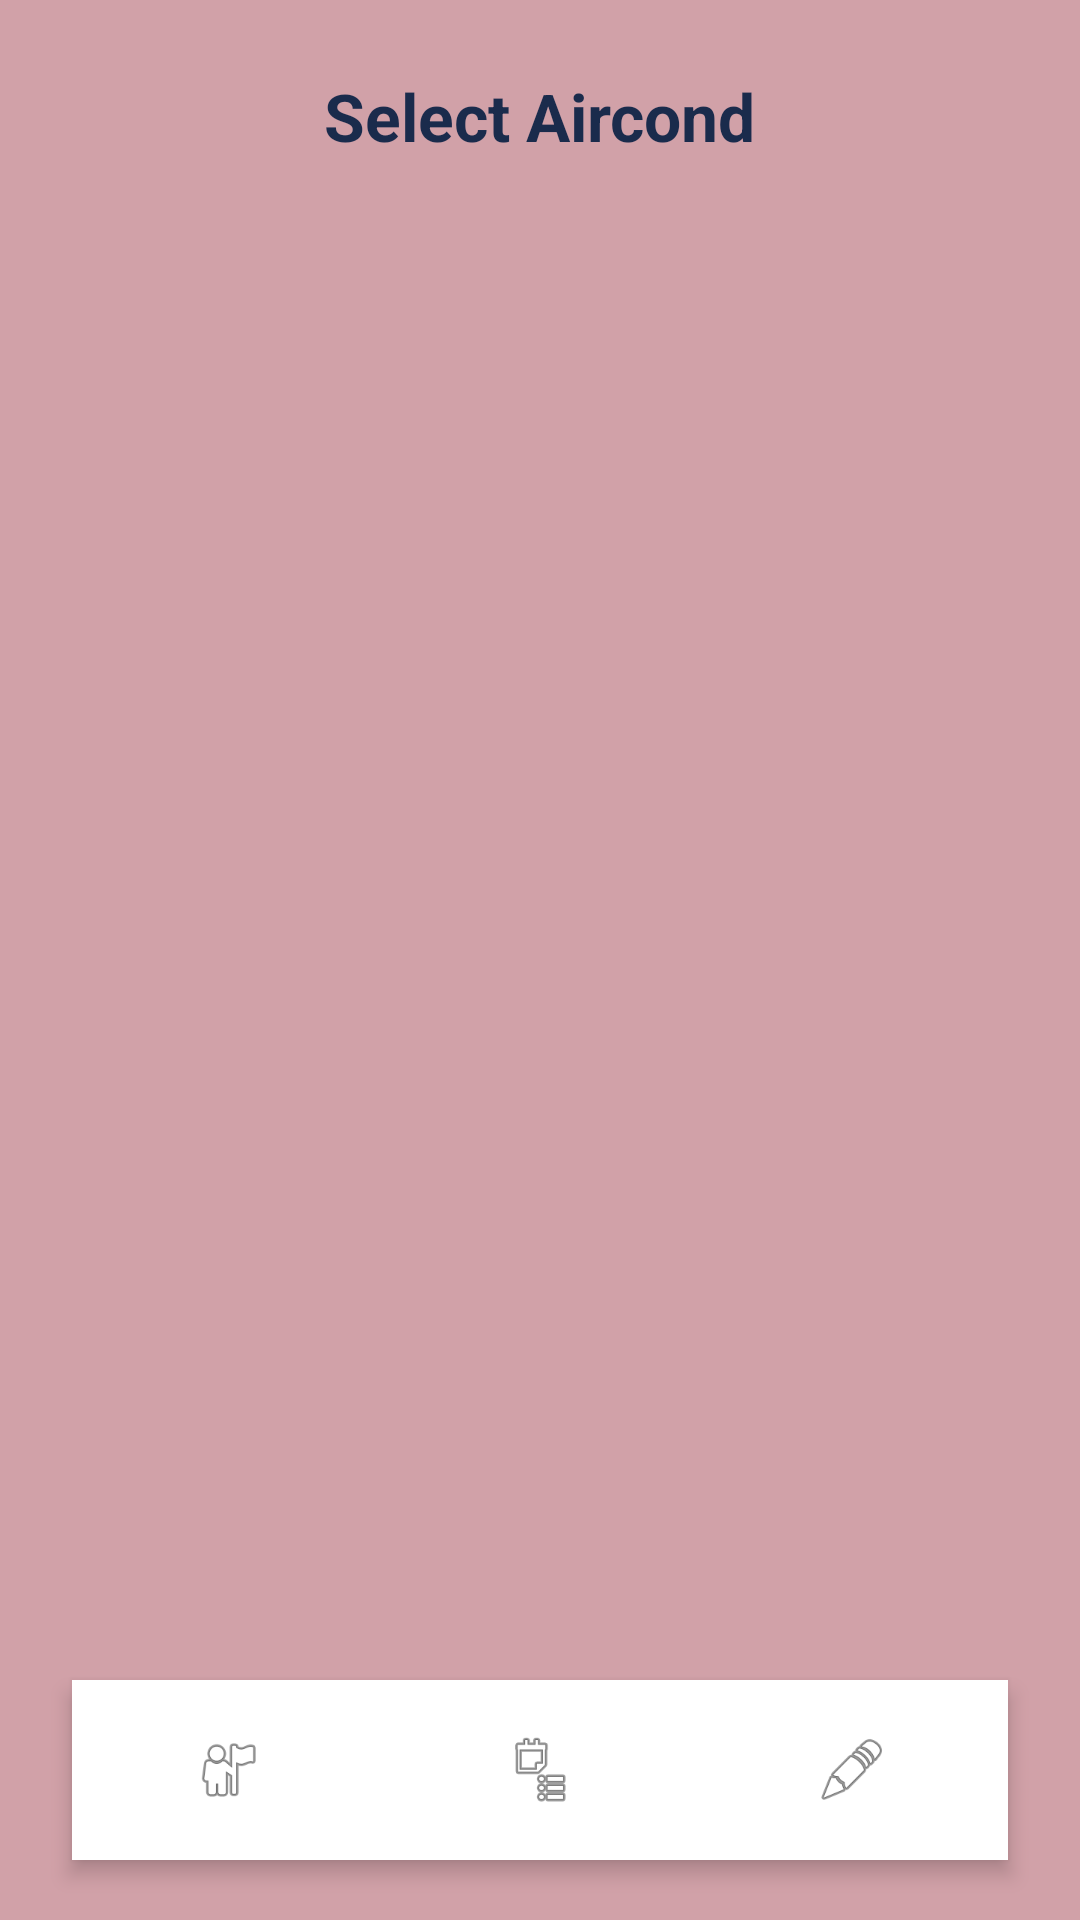

Point at icon controls on the screen. Image size 1080x1920, points as (x=x, y=y).
agenda: (x=540, y=1770)
edit: (x=851, y=1769)
myplaces: (x=229, y=1770)
